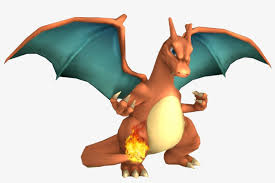charizard: (8, 12, 272, 171)
